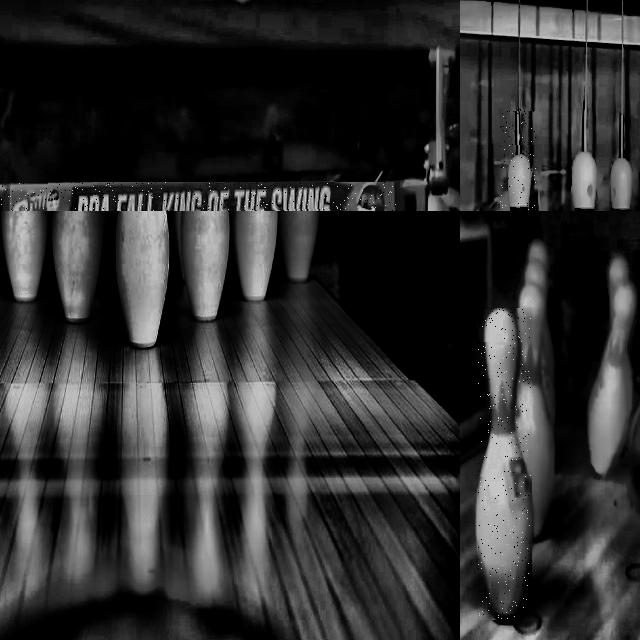bowling-pins: (479, 309, 531, 620), (516, 283, 554, 539), (588, 281, 636, 475), (116, 211, 170, 347), (52, 211, 102, 323), (182, 211, 230, 320), (1, 211, 48, 301), (232, 211, 278, 301), (279, 211, 319, 282)
sweep board: (0, 182, 398, 211)
